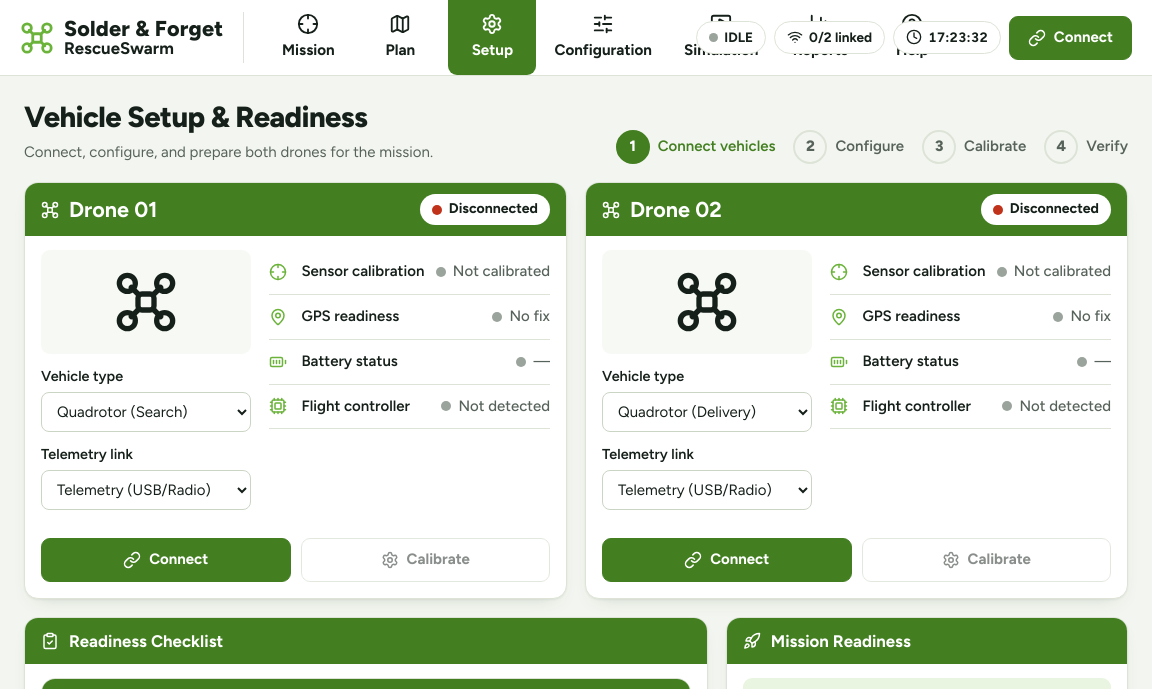
Setup › Disconnect resets the drone to not ready
This screenshot has width=1152, height=689.
Click the button with aria-label "Connect Drone 02": x=727, y=560 [602,538,852,582]
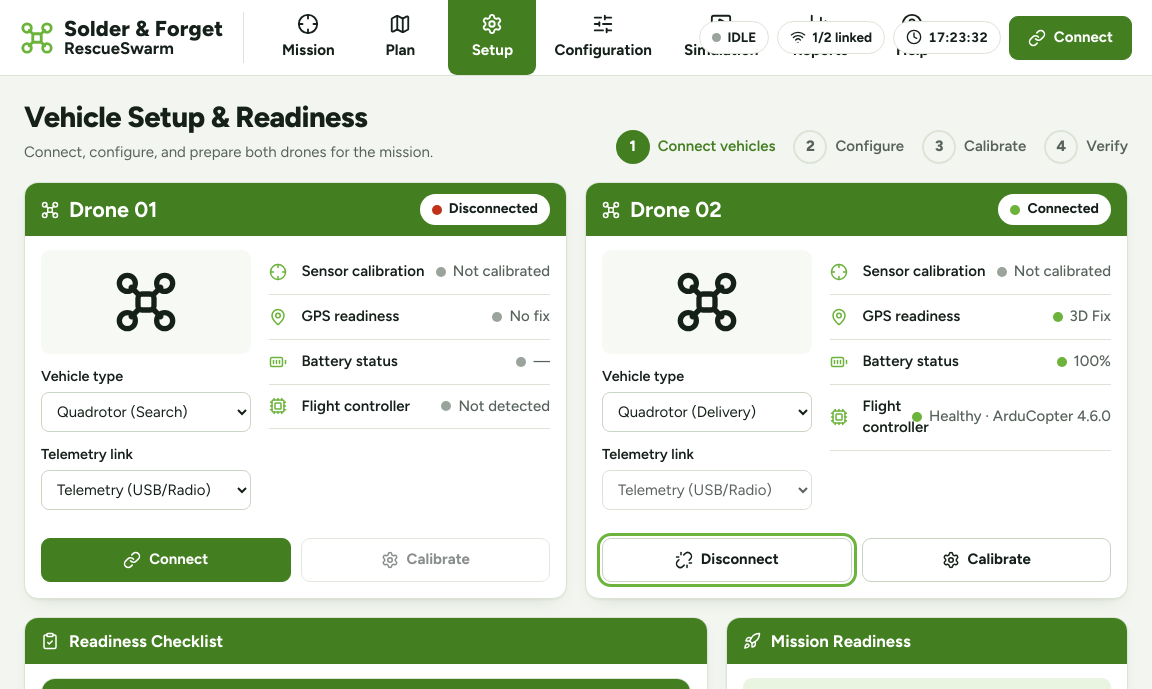
Click the button with aria-label "Disconnect Drone 02": x=727, y=560 [602,538,852,582]
(page scrolled)
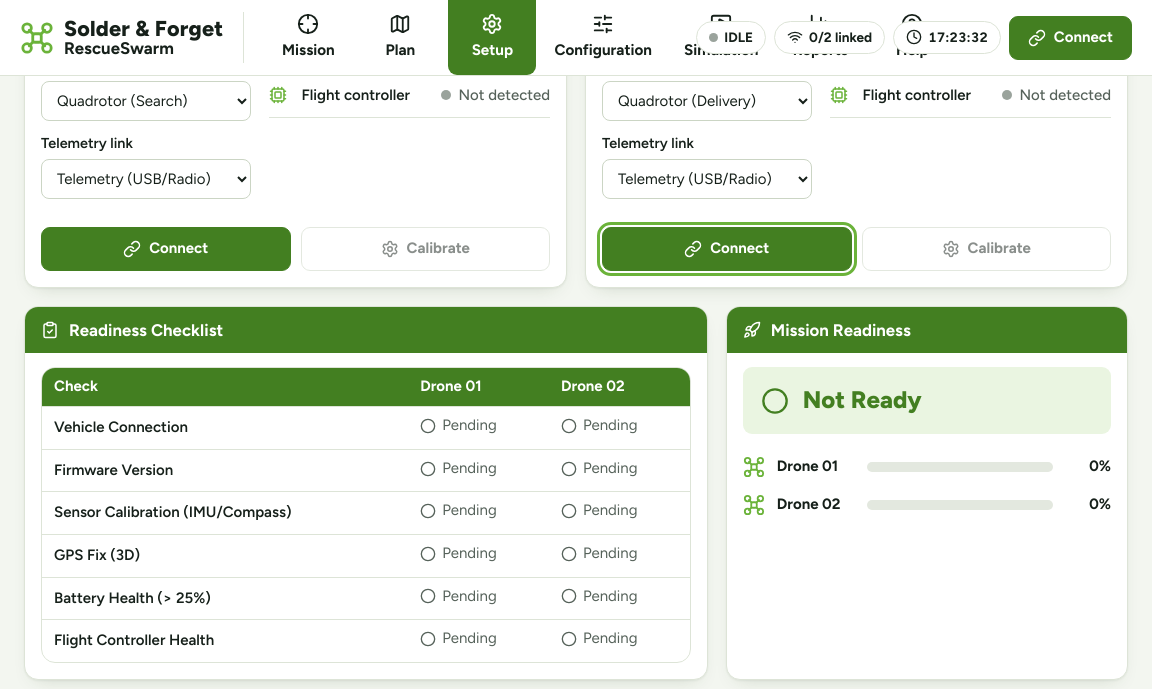
Now the progress indicator named "Drone 02 readiness" reads "0%", box [867,494,1111,516]
